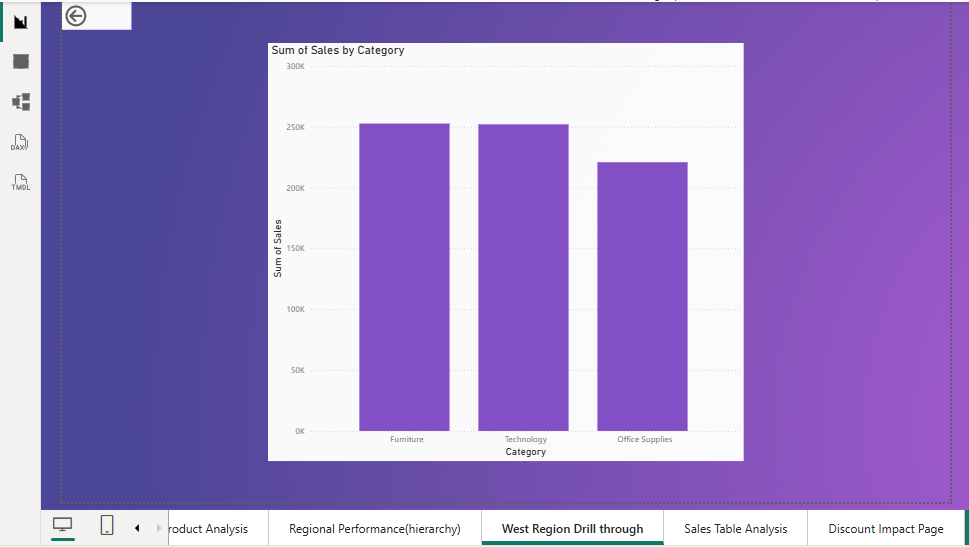

This screenshot's page, from the dashboard's own definition file:
{"tool":"powerbi","page":{"name":" West Region Drill through","canvas":[1280,720],"ordinal":4},"visuals":[{"type":"actionButton","box":[0,0,100,40],"z":0},{"type":"clusteredColumnChart","fields":{"Category":["Orders.Category"],"Y":["Sum(Orders.Sales)"]},"box":[296.7,58.3,685,601.7],"z":1000}]}

Visuals, with their boxes on the page's 1280x720 design canvas (x1, y1, x2, y2). These are canvas units, not pixel positions in the 969x547 screenshot, which may show the page scaled, cropped or inside an application window:
actionButton: [left=0, top=0, right=100, bottom=40]
clusteredColumnChart - Orders.Category x Sum(Orders.Sales): [left=297, top=58, right=982, bottom=660]
